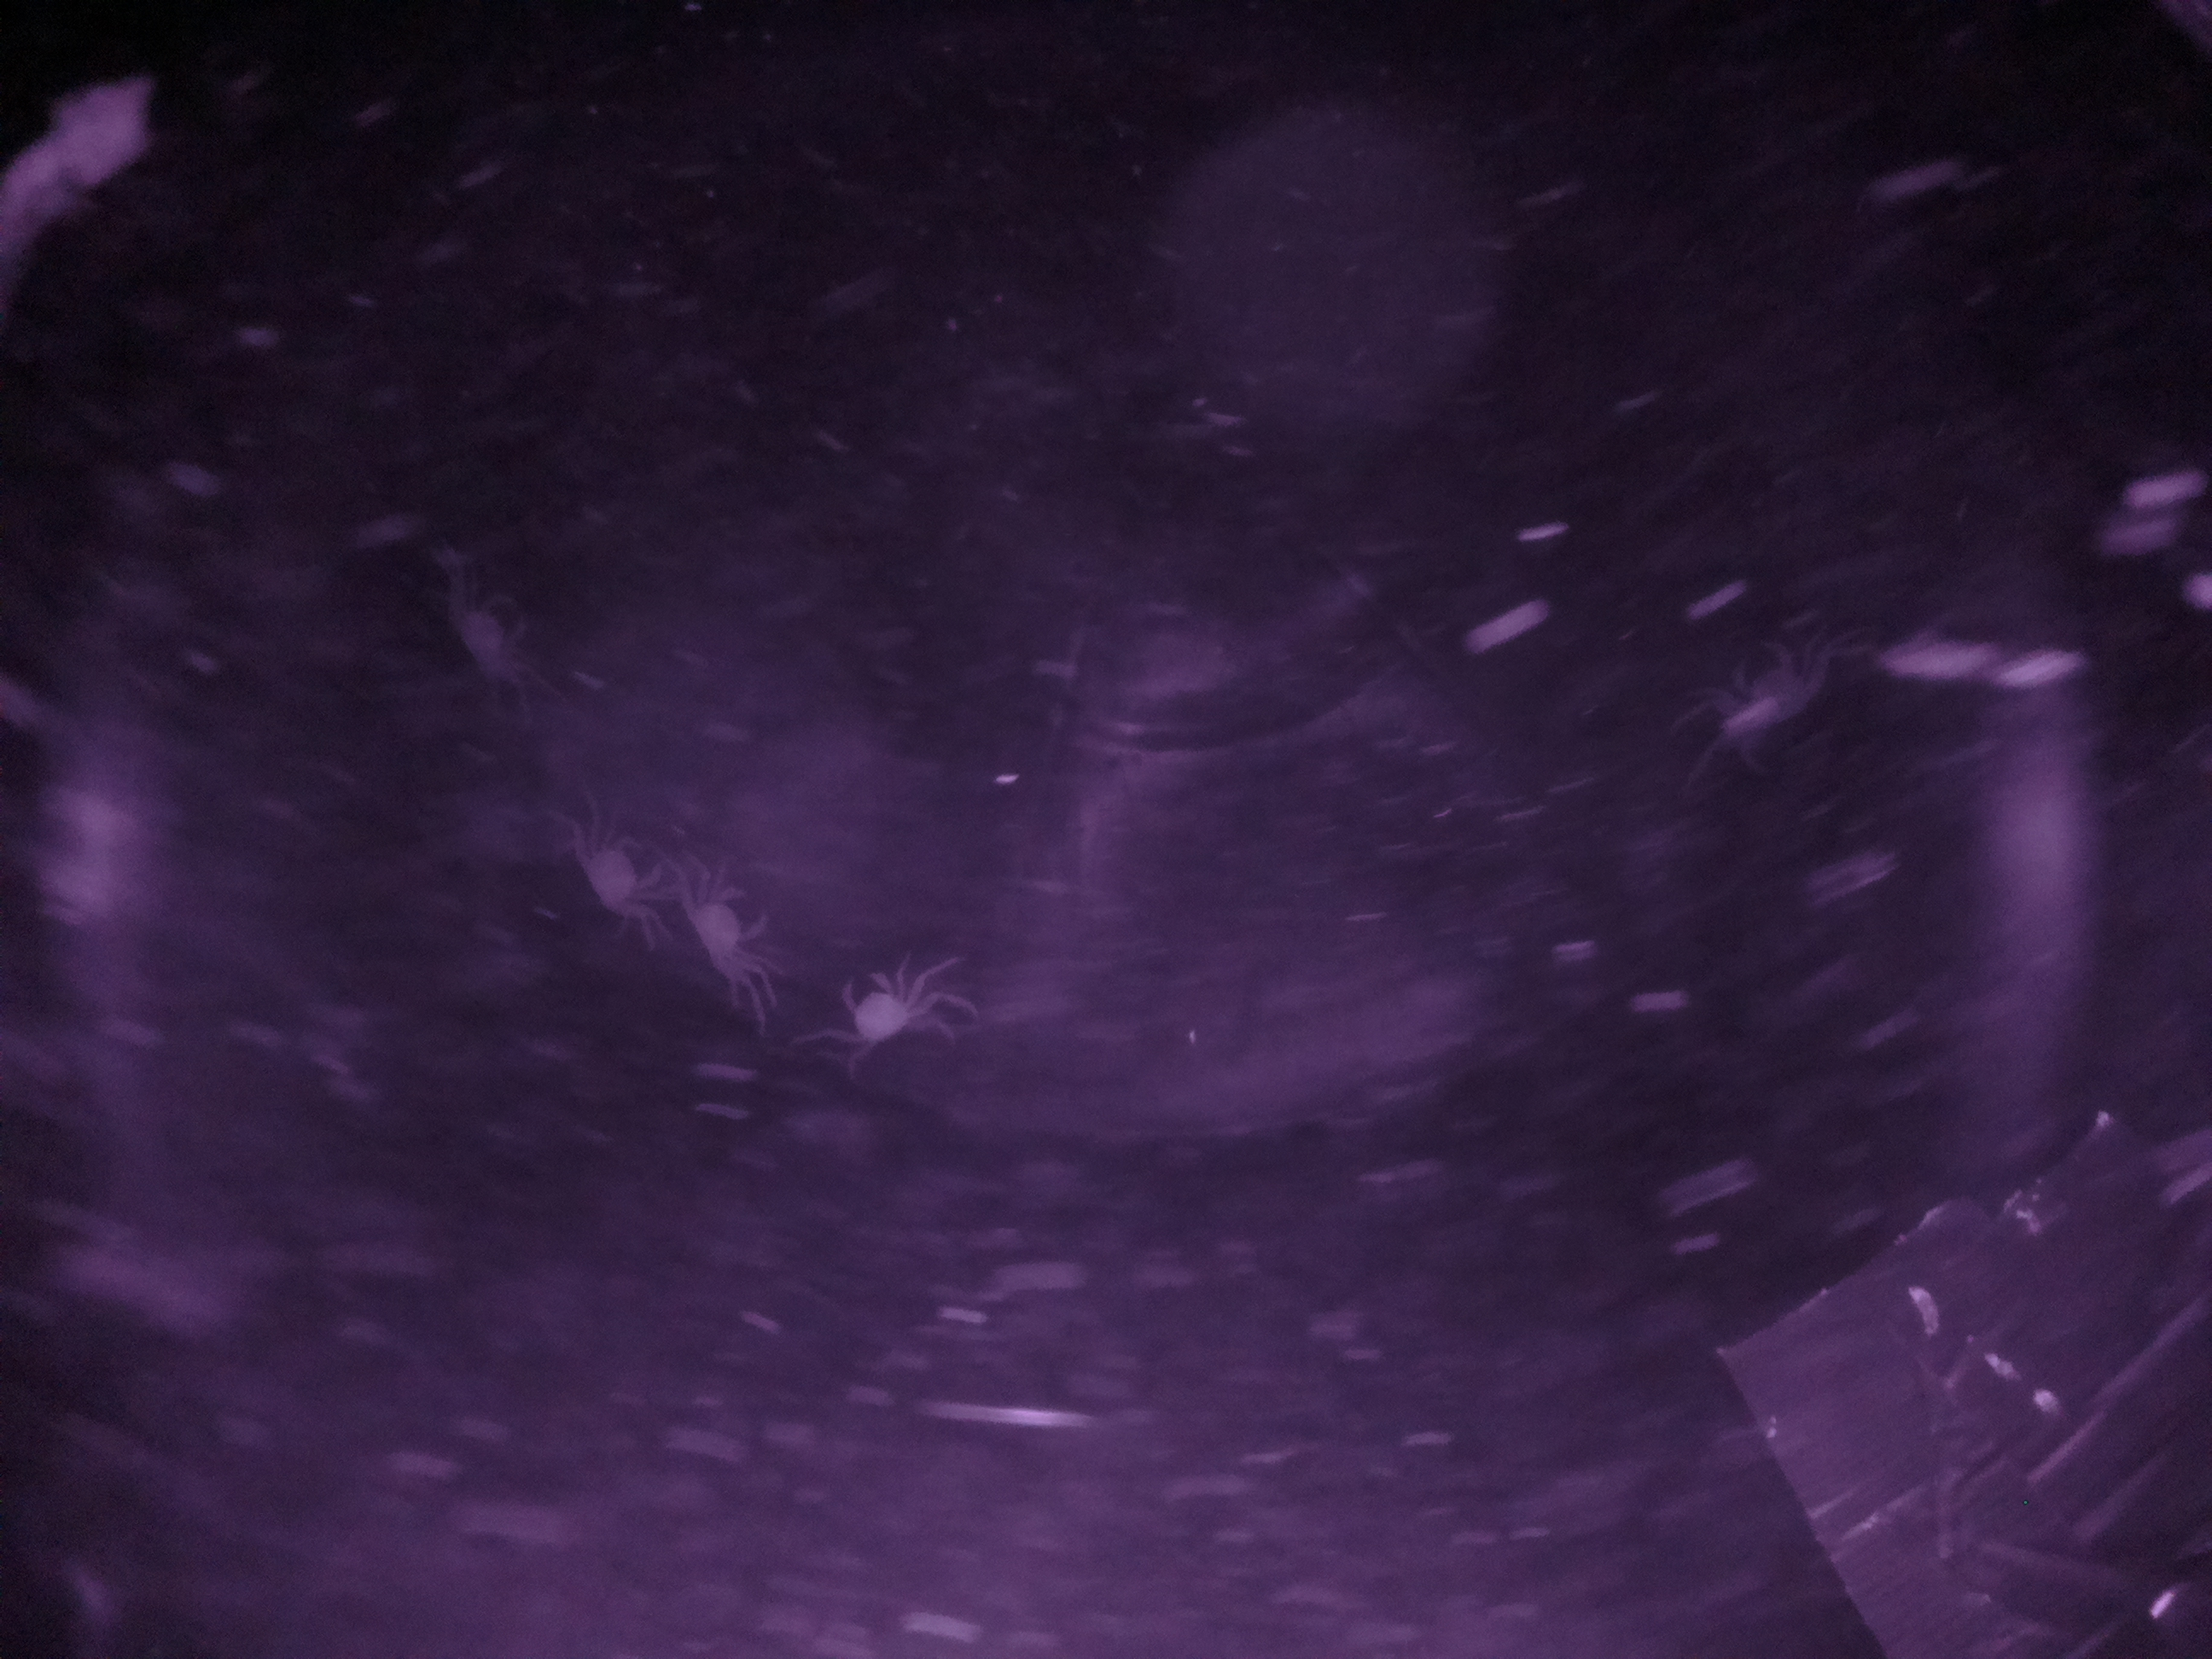Crab: (833, 946, 942, 1068)
